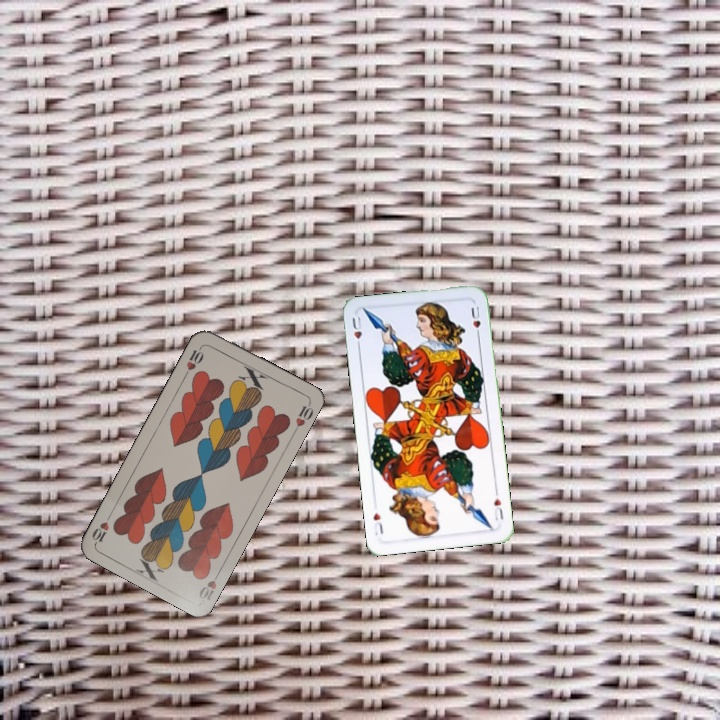H10: (195, 566, 224, 603), (180, 342, 206, 379)
HU: (348, 312, 364, 352), (490, 486, 506, 523)
